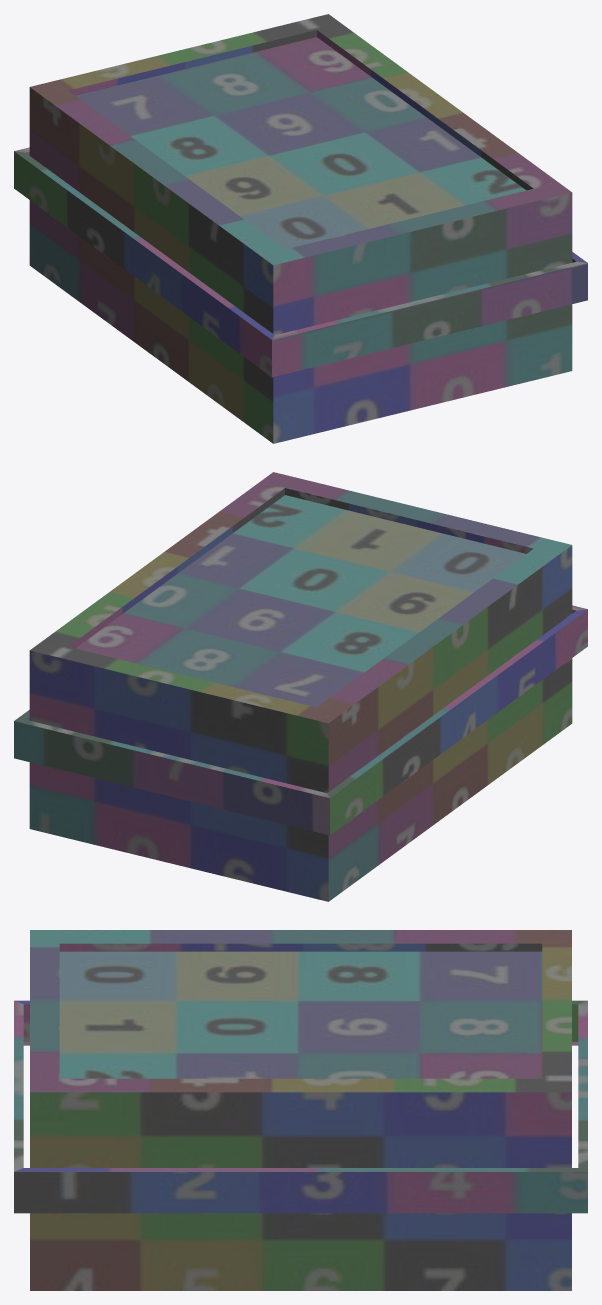
The model's file is urn_low.fbx.
The picture shows the model from 3 angles, top to bottom: view 1: azimuth 30°, elevation 25°; view 2: azimuth 150°, elevation 25°; view 3: azimuth 270°, elevation 25°; orthographic projection. The views are drawn at different scales.
Parts seen in each view (by area): view 1: urn_01_low, urn_02_low; view 2: urn_01_low, urn_02_low; view 3: urn_01_low, urn_02_low.
Part boxes in pixels (x1=…): urn_01_low: x1=29, y1=14, x2=572, y2=443; urn_02_low: x1=14, y1=147, x2=587, y2=377; urn_01_low: x1=29, y1=472, x2=572, y2=901; urn_02_low: x1=14, y1=605, x2=587, y2=835; urn_01_low: x1=30, y1=930, x2=571, y2=1290; urn_02_low: x1=14, y1=1000, x2=587, y2=1213.
Size of the model in its own units: 3.67 by 1.98 by 5.19.
Materials: 2 (2 with a texture image).
